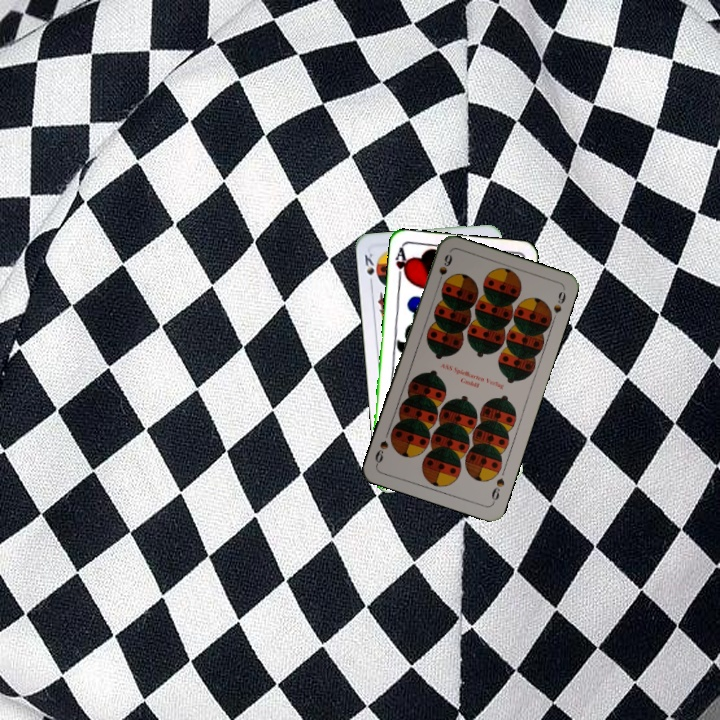HA: (391, 244, 411, 285)
S9: (433, 250, 455, 289), (487, 474, 507, 506)
SK: (360, 249, 381, 289)
